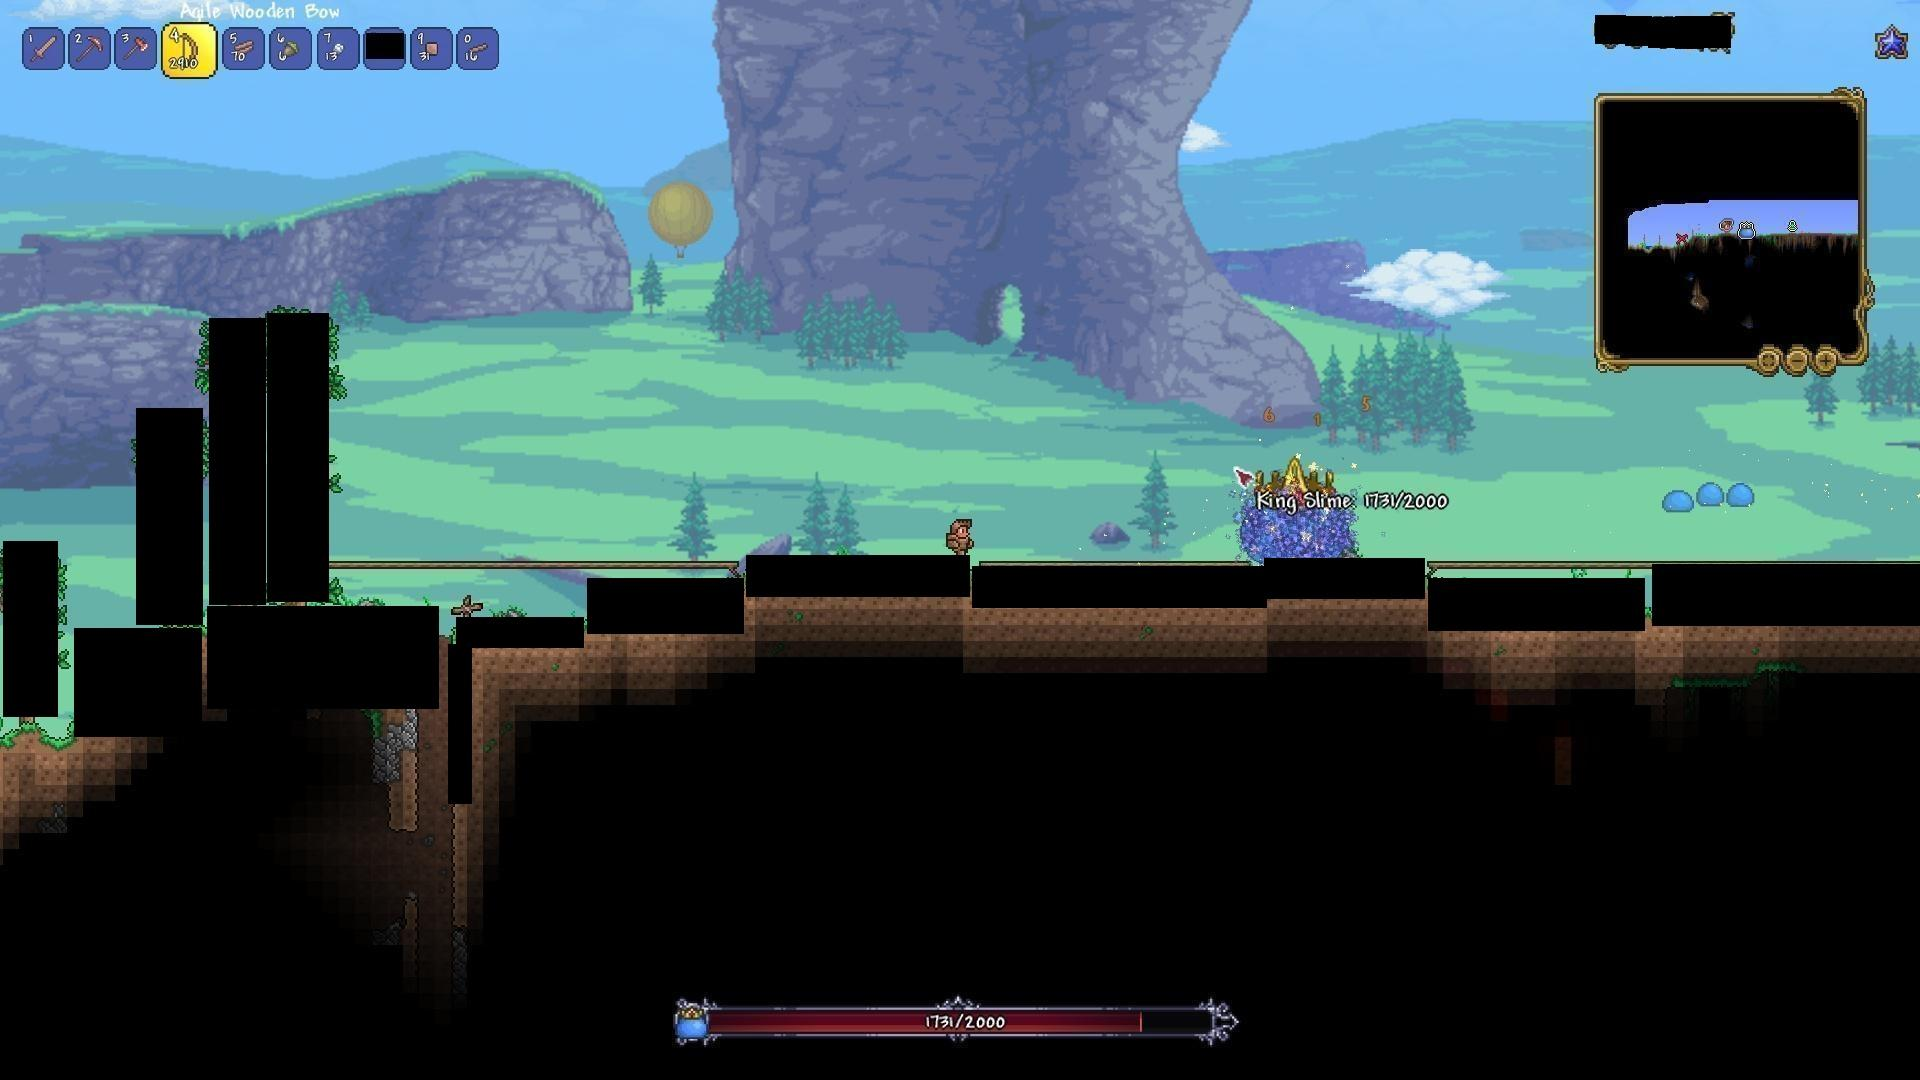dirt: (4, 720, 74, 758)
slime: (1662, 485, 1698, 513), (1695, 480, 1729, 508), (1725, 481, 1756, 508)
wood: (228, 33, 260, 63)
